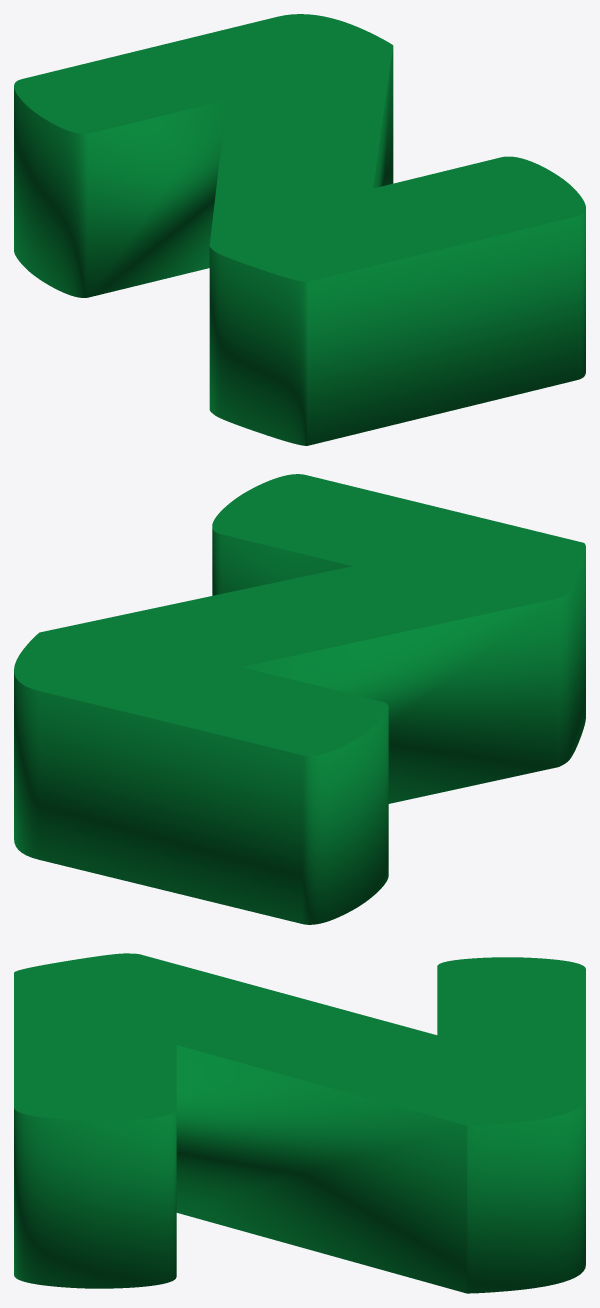
The picture shows the model from 3 angles, top to bottom: view 1: azimuth 30°, elevation 25°; view 2: azimuth 150°, elevation 25°; view 3: azimuth 270°, elevation 25°; orthographic projection. The views are drawn at different scales.
Parts seen in each view (by area): view 1: z; view 2: z; view 3: z.
Boxes of the visible parts, bbox=[...] form: z: bbox=[14, 14, 585, 445]; z: bbox=[14, 474, 585, 924]; z: bbox=[14, 953, 585, 1293].
Bounding box in the file's own units: 0.2129 × 0.0967 × 0.2987.
